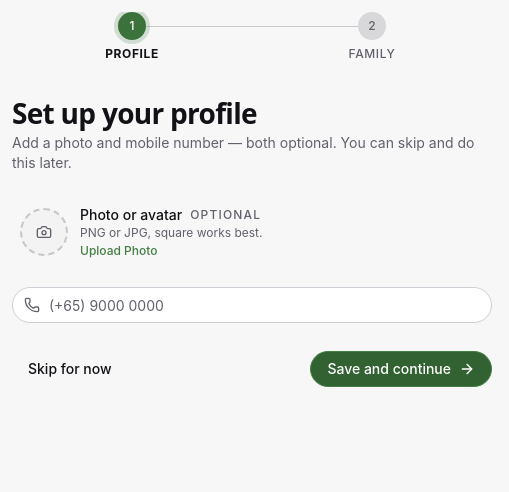
Test: OnboardingWizard › a save fault holds the user on Profile with an error alert
Click the button "Save and continue" at {"x": 401, "y": 369}, box [310, 351, 492, 387]
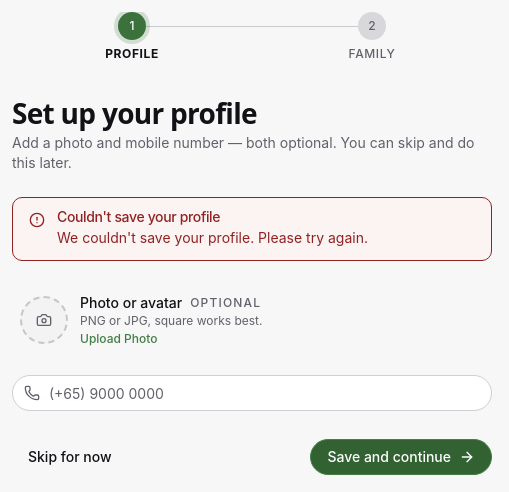
Expected: the heading "Set up your profile" is shown, [12, 94, 257, 132]
Now the message shows "Couldn't save your profile", box [57, 208, 220, 225]
